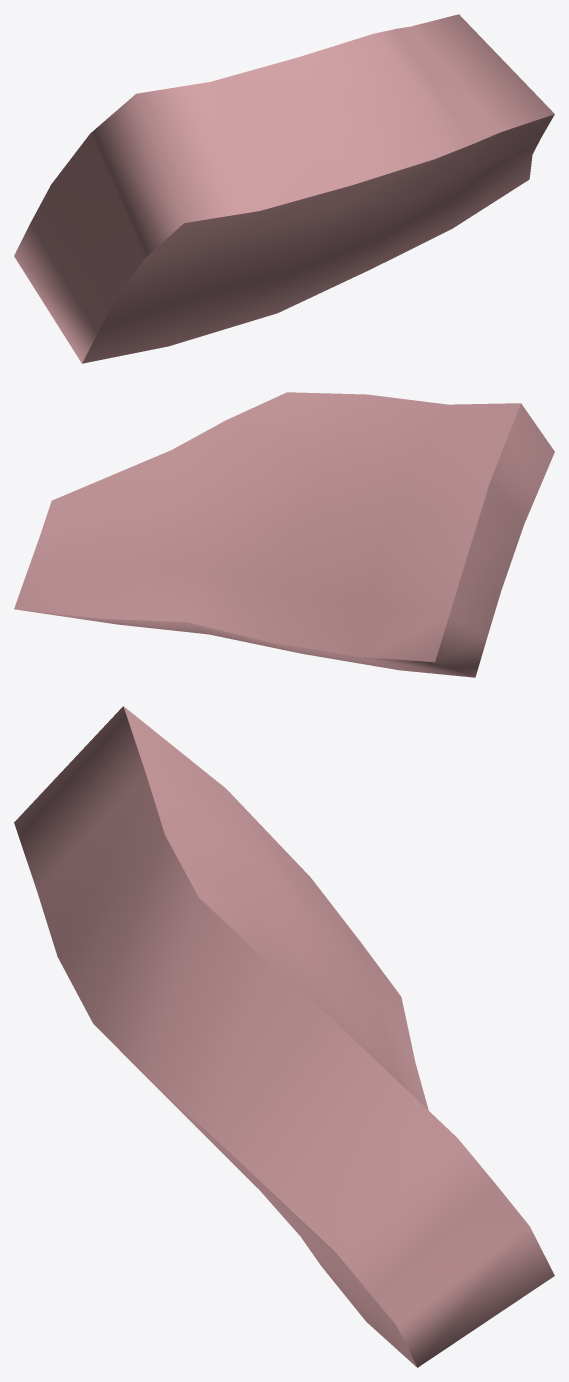
3 views of the same model, one above another, from view 1: azimuth 30°, elevation 25°; view 2: azimuth 150°, elevation 25°; view 3: azimuth 270°, elevation 25° (orthographic). The views are drawn at different scales.
Visible parts, largest first — view 1: ZA_6a55aa094c848860; view 2: ZA_6a55aa094c848860; view 3: ZA_6a55aa094c848860.
Part boxes in pixels (bbox=[...]): ZA_6a55aa094c848860: bbox=[14, 14, 554, 363]; ZA_6a55aa094c848860: bbox=[14, 392, 554, 677]; ZA_6a55aa094c848860: bbox=[14, 706, 554, 1367].
Size of the model in its own units: 0.0129 by 0.0076 by 0.00967.
